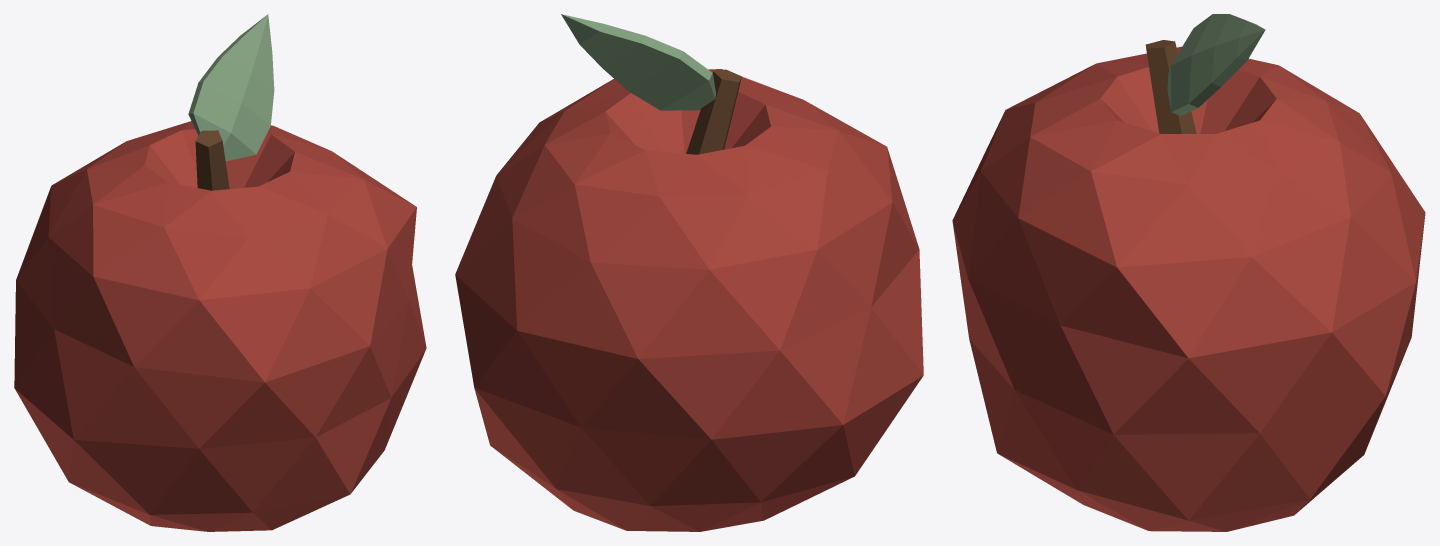
The model's file is manzana.glb.
The picture shows the model from 3 angles, left to right: view 1: azimuth 30°, elevation 25°; view 2: azimuth 150°, elevation 25°; view 3: azimuth 270°, elevation 25°; orthographic projection. The views are drawn at different scales.
Parts seen in each view (by area): view 1: Manzana_cuerpo, Manzana_hoja, Manzana_tallo; view 2: Manzana_cuerpo, Manzana_hoja, Manzana_tallo; view 3: Manzana_cuerpo, Manzana_hoja, Manzana_tallo.
Boxes of the visible parts, left/top/right/bottom form: Manzana_cuerpo: left=14, top=121, right=426, bottom=531; Manzana_hoja: left=188, top=14, right=274, bottom=161; Manzana_tallo: left=195, top=130, right=229, bottom=190; Manzana_cuerpo: left=455, top=69, right=923, bottom=531; Manzana_hoja: left=561, top=14, right=715, bottom=110; Manzana_tallo: left=686, top=69, right=741, bottom=154; Manzana_cuerpo: left=952, top=46, right=1425, bottom=531; Manzana_hoja: left=1167, top=14, right=1265, bottom=115; Manzana_tallo: left=1145, top=40, right=1196, bottom=133.
Bounding box in the file's own units: 0.0848 × 0.0985 × 0.0822.
